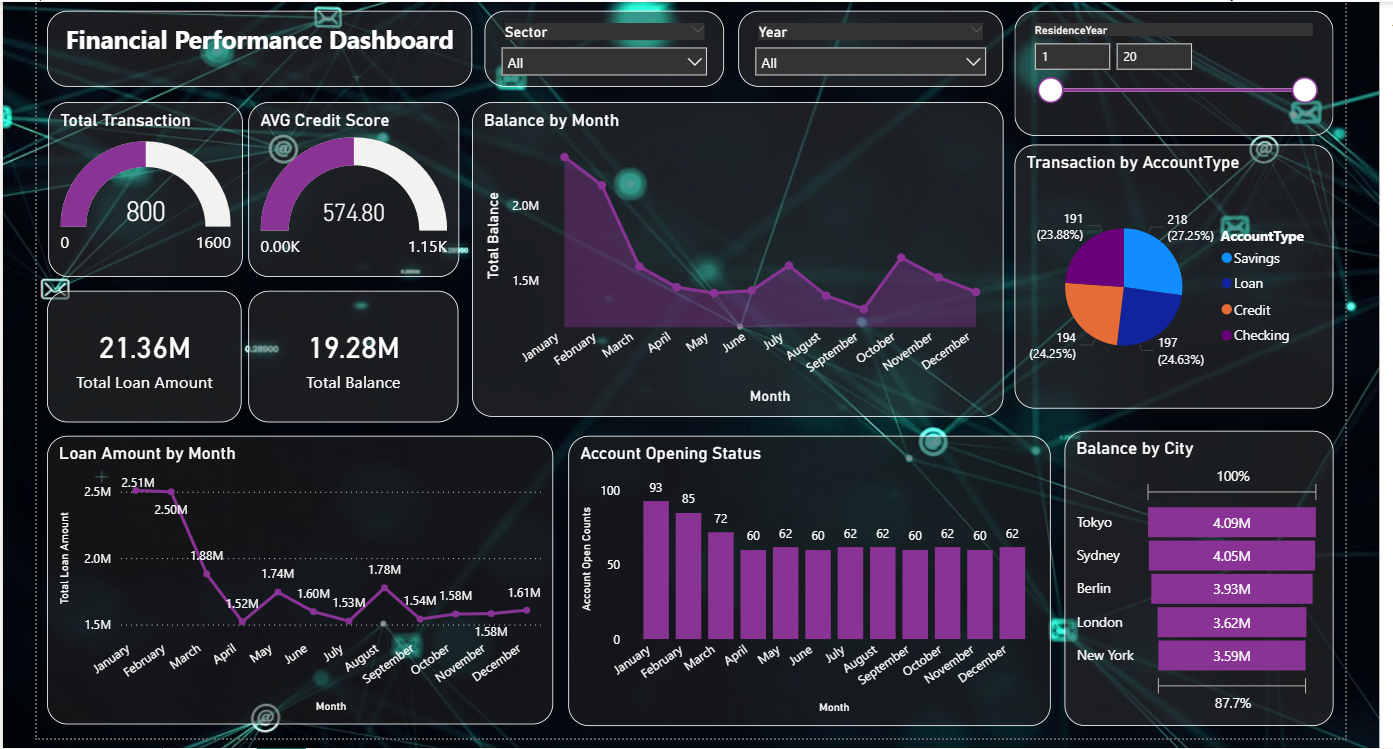

What the dashboard file says about the page in this screenshot:
{"tool":"powerbi","page":{"name":"Page 1","canvas":[1280,720],"ordinal":0},"visuals":[{"type":"gauge","fields":{"Y":["Sheet1.Total Transaction"]},"box":[11,97.8,190.8,171.2],"z":0},{"type":"card","fields":{"Values":["Sheet1.Total Loan Amount"]},"box":[9.6,282.7,190.7,129],"z":1000},{"type":"card","fields":{"Values":["Sheet1.Total Balance"]},"box":[207.2,282.7,205.8,129],"z":2000},{"type":"gauge","fields":{"Y":["Sheet1.AVG Credit Score"]},"box":[206.7,97.8,206.7,171.2],"z":3000},{"type":"lineChart","title":"Loan Amount by Month","fields":{"Category":["Sheet1.OpeningDate.Variation.Date Hierarchy.Month"],"Y":["Sheet1.Total Loan Amount"]},"box":[9.8,424.3,495.2,282.5],"z":4000},{"type":"clusteredColumnChart","title":"Account Opening Status","fields":{"Category":["Sheet1.OpeningDate.Variation.Date Hierarchy.Month"],"Y":["Sheet1.Count of ACnumber"]},"box":[519.7,424.3,472,283.7],"z":5000},{"type":"pieChart","title":" Transaction by AccountType","fields":{"Y":["Sheet1.Total Transaction"],"Category":["Sheet1.AccountType"]},"box":[956.3,139.4,311.8,258],"z":6000},{"type":"funnel","title":"Balance by City","fields":{"Category":["Sheet1.City"],"Y":["Sheet1.Total Balance"]},"box":[1005.2,419.4,262.9,288.6],"z":7000},{"type":"slicer","fields":{"Values":["Sheet1.OpeningDate.Variation.Date Hierarchy.Year"]},"box":[686,8.6,259.2,74.6],"z":8000},{"type":"stackedAreaChart","title":"Balance by Month","fields":{"Y":["Sheet1.Total Balance"],"Category":["Sheet1.OpeningDate.Variation.Date Hierarchy.Month"]},"box":[425.5,97.8,519.7,308.2],"z":9000},{"type":"textbox","box":[9.8,8.6,415.8,74.6],"z":10000},{"type":"slicer","fields":{"Values":["Sheet1.Sector"]},"box":[437.8,8.6,234.8,74.6],"z":11000},{"type":"slicer","fields":{"Values":["Sheet1.ResidenceYear"]},"box":[956.3,8.6,311.8,122.3],"z":12000}]}

Visuals, with their boxes in screenshot pixels (x1, y1, x2, y2):
gauge - Sheet1.Total Transaction: pyautogui.locateOnScreen(41, 93, 243, 275)
card - Sheet1.Total Loan Amount: pyautogui.locateOnScreen(39, 289, 242, 426)
card - Sheet1.Total Balance: pyautogui.locateOnScreen(249, 289, 467, 426)
gauge - Sheet1.AVG Credit Score: pyautogui.locateOnScreen(248, 93, 468, 275)
"Loan Amount by Month" lineChart: pyautogui.locateOnScreen(39, 439, 565, 739)
"Account Opening Status" clusteredColumnChart: pyautogui.locateOnScreen(581, 439, 1081, 740)
" Transaction by AccountType" pieChart: pyautogui.locateOnScreen(1044, 137, 1375, 411)
"Balance by City" funnel: pyautogui.locateOnScreen(1096, 434, 1375, 740)
slicer - Sheet1.OpeningDate.Variation.Date Hierarchy.Year: pyautogui.locateOnScreen(757, 0, 1032, 77)
"Balance by Month" stackedAreaChart: pyautogui.locateOnScreen(481, 93, 1032, 420)
textbox: pyautogui.locateOnScreen(39, 0, 481, 77)
slicer - Sheet1.Sector: pyautogui.locateOnScreen(494, 0, 743, 77)
slicer - Sheet1.ResidenceYear: pyautogui.locateOnScreen(1044, 0, 1375, 128)
